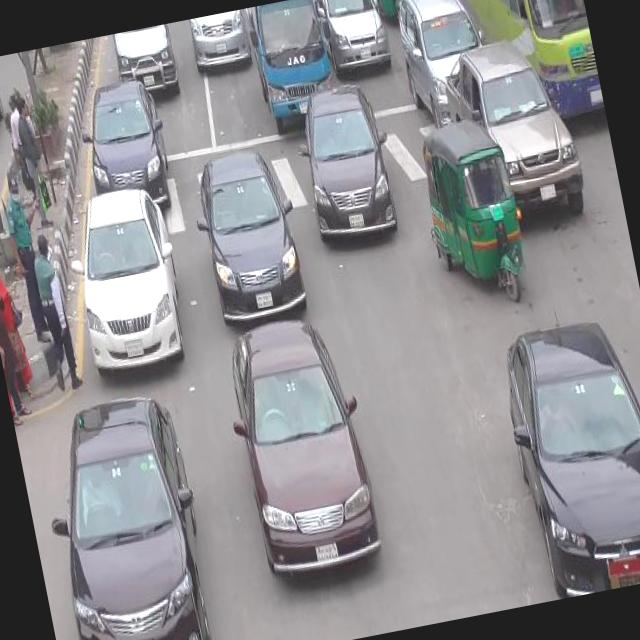bus: (509, 0, 606, 135)
car: (210, 302, 394, 592), (27, 382, 230, 640), (489, 288, 640, 600), (56, 177, 198, 380), (181, 136, 316, 337), (284, 74, 409, 258), (72, 68, 178, 222), (315, 0, 396, 84)
motorcycle: (408, 108, 538, 321)
truck: (434, 27, 590, 236), (244, 0, 345, 134)
